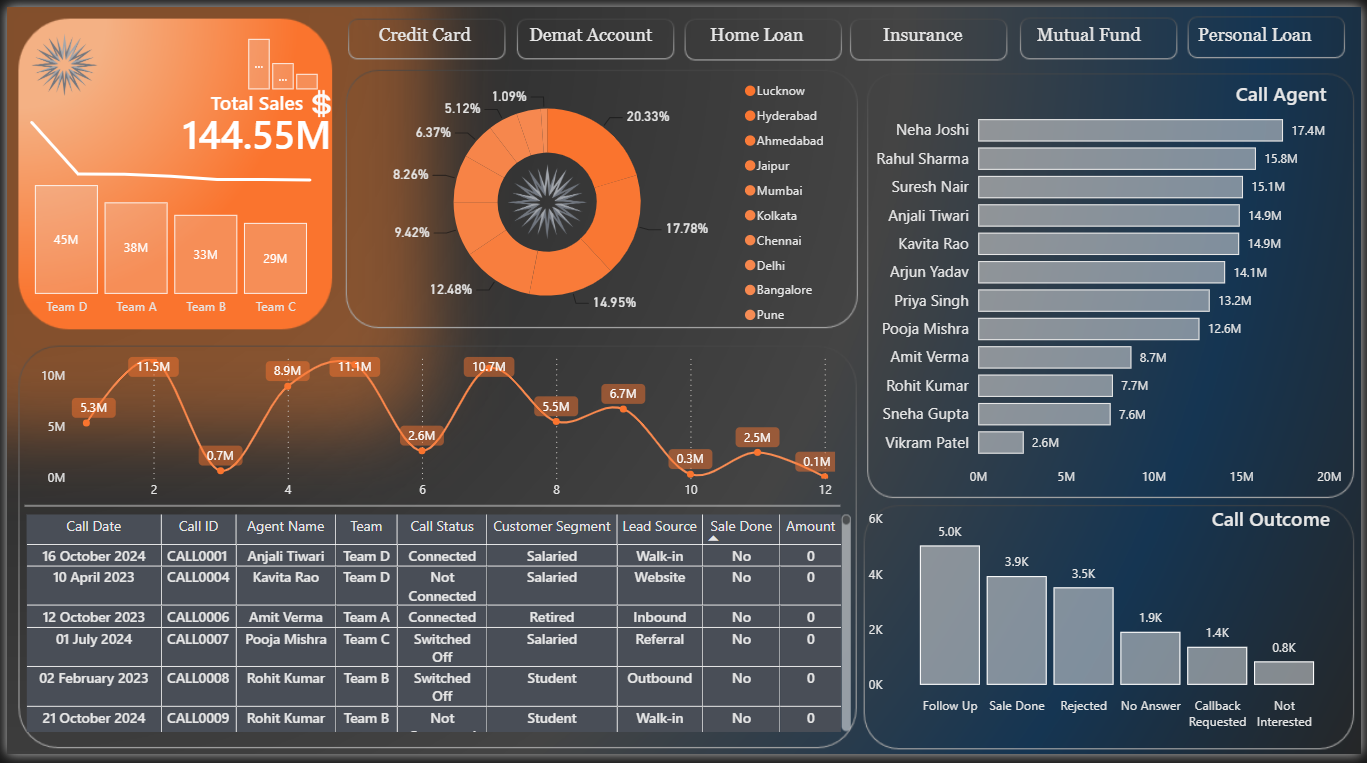

The dashboard page shown, as its layout file describes it:
{"tool":"powerbi","page":{"name":"Page 6","canvas":[1305,720],"ordinal":0},"visuals":[{"type":"lineChart","title":"Monthly Sale","fields":{"Y":["Tele_sale.Total_sales"],"Category":["DateTable.Month Number"]},"box":[28,326.8,775.6,157.3],"z":0},{"type":"clusteredBarChart","title":"Agent","fields":{"Category":["Tele_sale.Agent Name"],"Y":["Sum(Tele_sale.Sale Amount INR)"]},"box":[830,83.8,456.1,381.7],"z":1000},{"type":"advancedSlicerVisual","fields":{"Values":["Tele_sale.Product"]},"box":[303.8,0,1001.1,53.3],"z":2000},{"type":"card","title":"Total Sales","fields":{"Values":["Sum(Tele_sale.Sale Amount INR)"]},"box":[158.8,80,163.8,66.2],"z":3000},{"type":"donutChart","fields":{"Category":["Tele_sale.City"],"Y":["Sum(Tele_sale.Sale Amount INR)"]},"box":[326.2,62.5,475.6,251.2],"z":4000},{"type":"clusteredColumnChart","title":"Agent","fields":{"Category":["Tele_sale.Outcome"],"Y":["Sum(Tele_sale.Call Duration Mins)"]},"box":[830,483.8,456.2,215],"z":5000},{"type":"clusteredColumnChart","title":"Agent","fields":{"Y":["Sum(Tele_sale.Sale Amount INR)"],"Category":["Tele_sale.Team"]},"box":[0,157.3,317.1,143.9],"z":6000},{"type":"shape","box":[17.1,476.8,786.6,7.3],"z":7000},{"type":"tableEx","title":"Agent","fields":{"Values":["Tele_sale.Call Date","Tele_sale.Call ID","Tele_sale.Agent Name","Tele_sale.Team","Tele_sale.Call Status","Tele_sale.Customer Segment","Tele_sale.Lead Source","Tele_sale.Sale Done","Sum(Tele_sale.Sale Amount INR)"]},"box":[17.5,483.8,795,213.8],"z":8000},{"type":"image","box":[453.8,126.2,133.8,123.8],"z":9000},{"type":"textbox","box":[1150,66.2,155,35],"z":10000},{"type":"textbox","box":[1131.2,476.2,173.8,42.5],"z":11000},{"type":"lineChart","title":"Total Sales","fields":{"Y":["Sum(Tele_sale.Sale Amount INR)"],"Category":["DateTable.Day Name"]},"box":[6.2,101.2,303.8,72.5],"z":12000},{"type":"image","box":[0,0,111.2,112.5],"z":13000},{"type":"image","box":[266.2,80,75,27.5],"z":14000},{"type":"columnChart","title":"Agent","fields":{"Category":["Tele_sale.Day_Type"],"Y":["Sum(Tele_sale.Sale Amount INR)"]},"box":[232.5,21.2,67.5,58.8],"z":15000}]}

Visuals, with their boxes in screenshot pixels (x1, y1, x2, y2), scaled from the page's 1305x720 canvas onto the 1367x763 screenshot:
"Monthly Sale" lineChart: 29,346,842,513
"Agent" clusteredBarChart: 869,89,1347,493
advancedSlicerVisual - Tele_sale.Product: 318,0,1366,56
"Total Sales" card: 166,85,338,155
donutChart - Tele_sale.City x Sum(Tele_sale.Sale Amount INR): 342,66,840,332
"Agent" clusteredColumnChart: 869,513,1347,741
"Agent" clusteredColumnChart: 0,167,332,319
shape: 18,505,842,513
"Agent" tableEx: 18,513,851,739
image: 475,134,616,265
textbox: 1205,70,1366,107
textbox: 1185,505,1366,550
"Total Sales" lineChart: 6,107,325,184
image: 0,0,116,119
image: 279,85,357,114
"Agent" columnChart: 244,22,314,85
